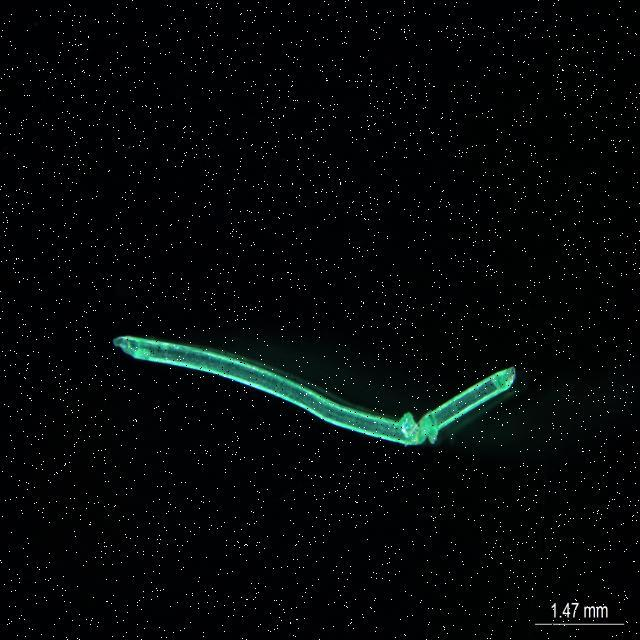Fibre: (110, 325, 518, 451)
